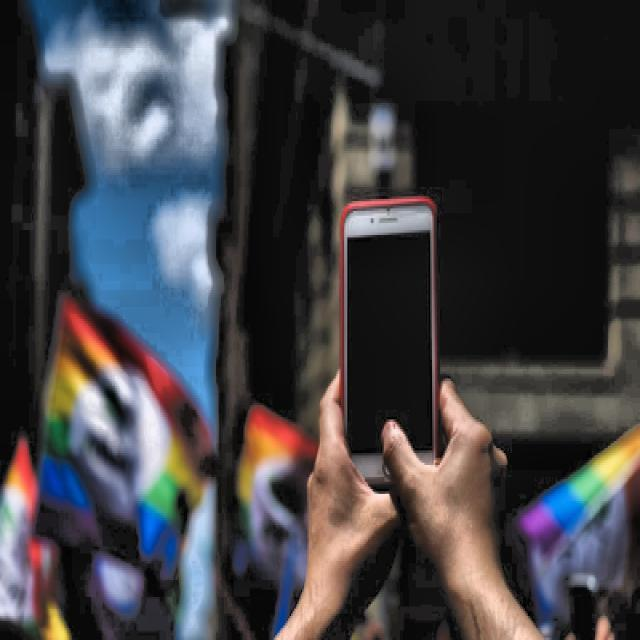Phone: (340, 194, 440, 496)
